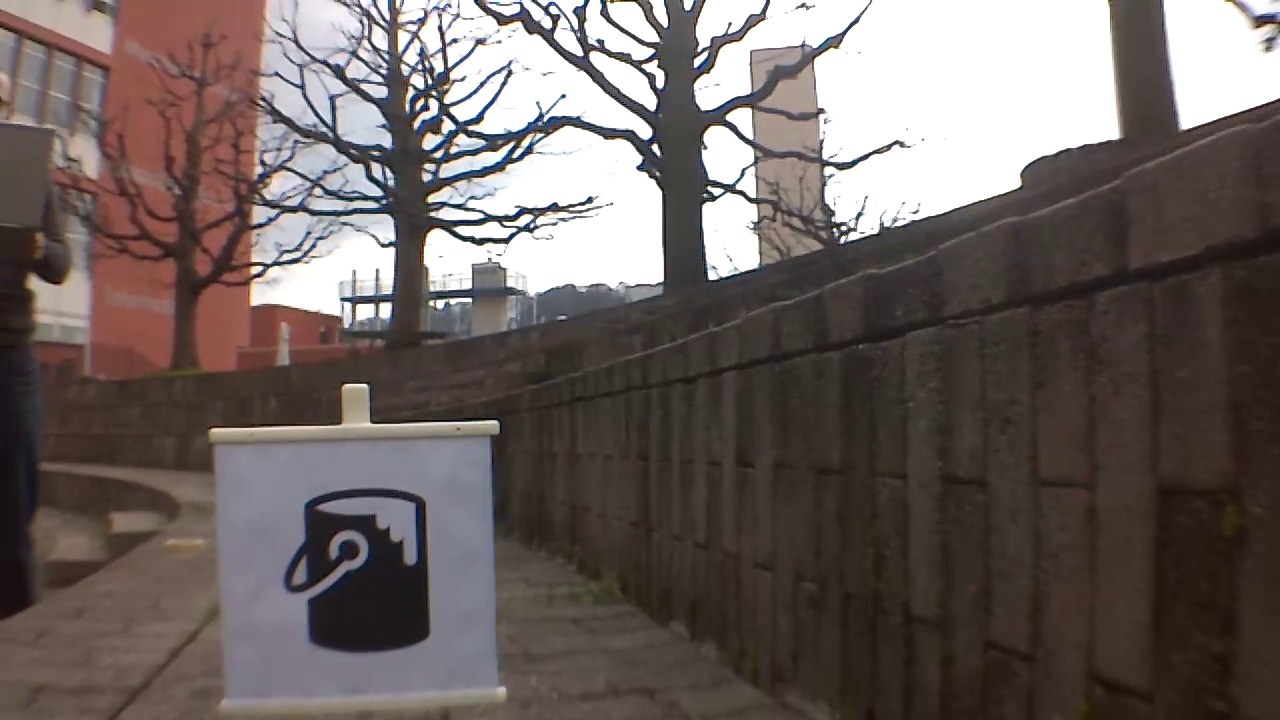bucket: (290, 481, 435, 648)
